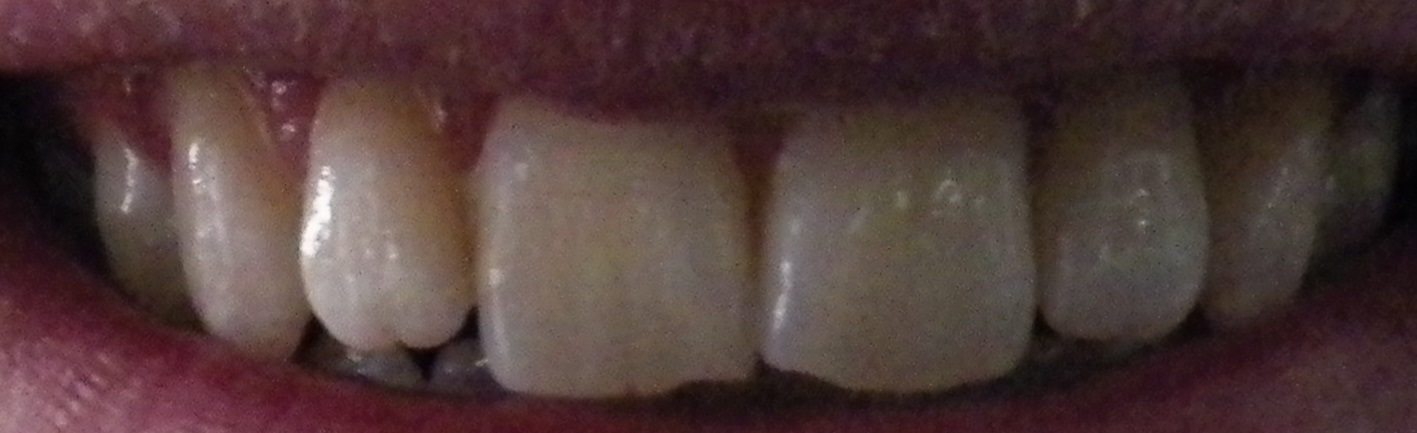boca: (75, 70, 1375, 407)
